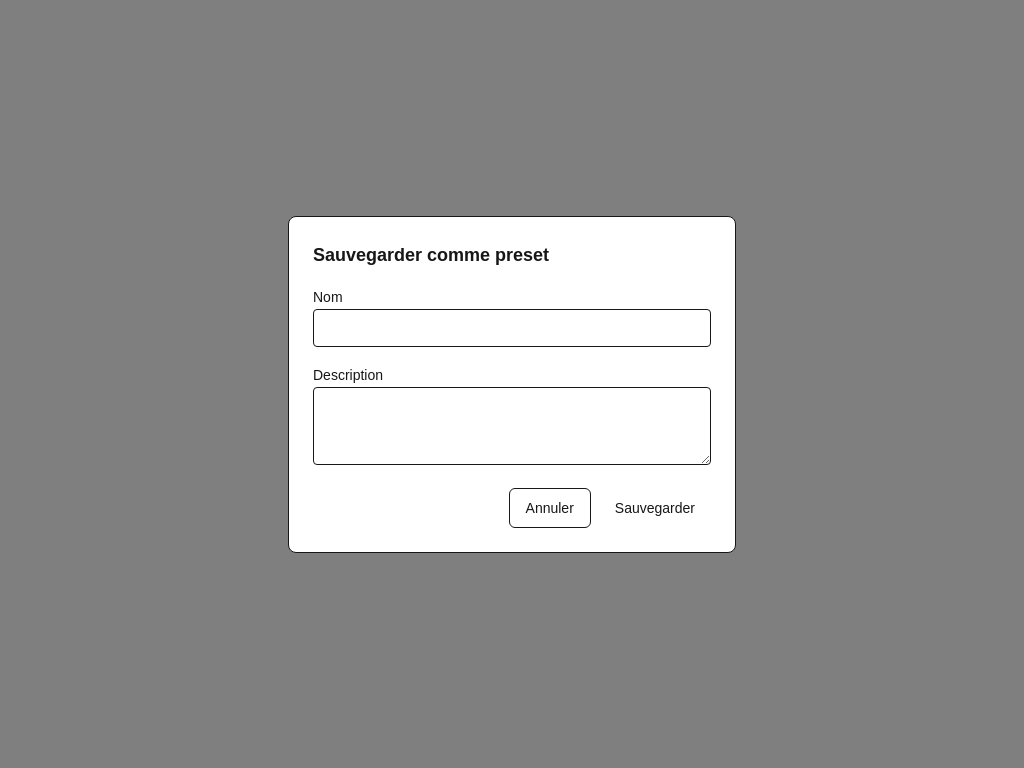
it: SavePresetModal › bloque la sauvegarde si le nom est vide
The width and height of the screenshot is (1024, 768).
Click the button "Sauvegarder": x=655, y=508 [599,488,711,528]
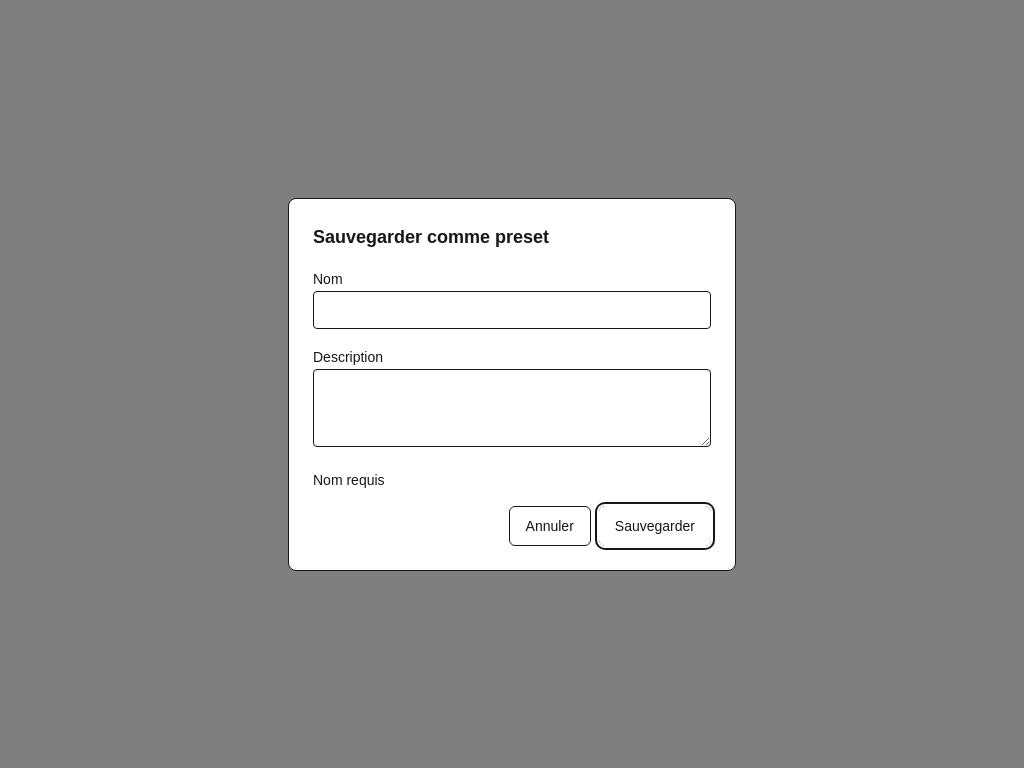
expect the text "Nom requis" is shown: met, box [313,472,385,488]
